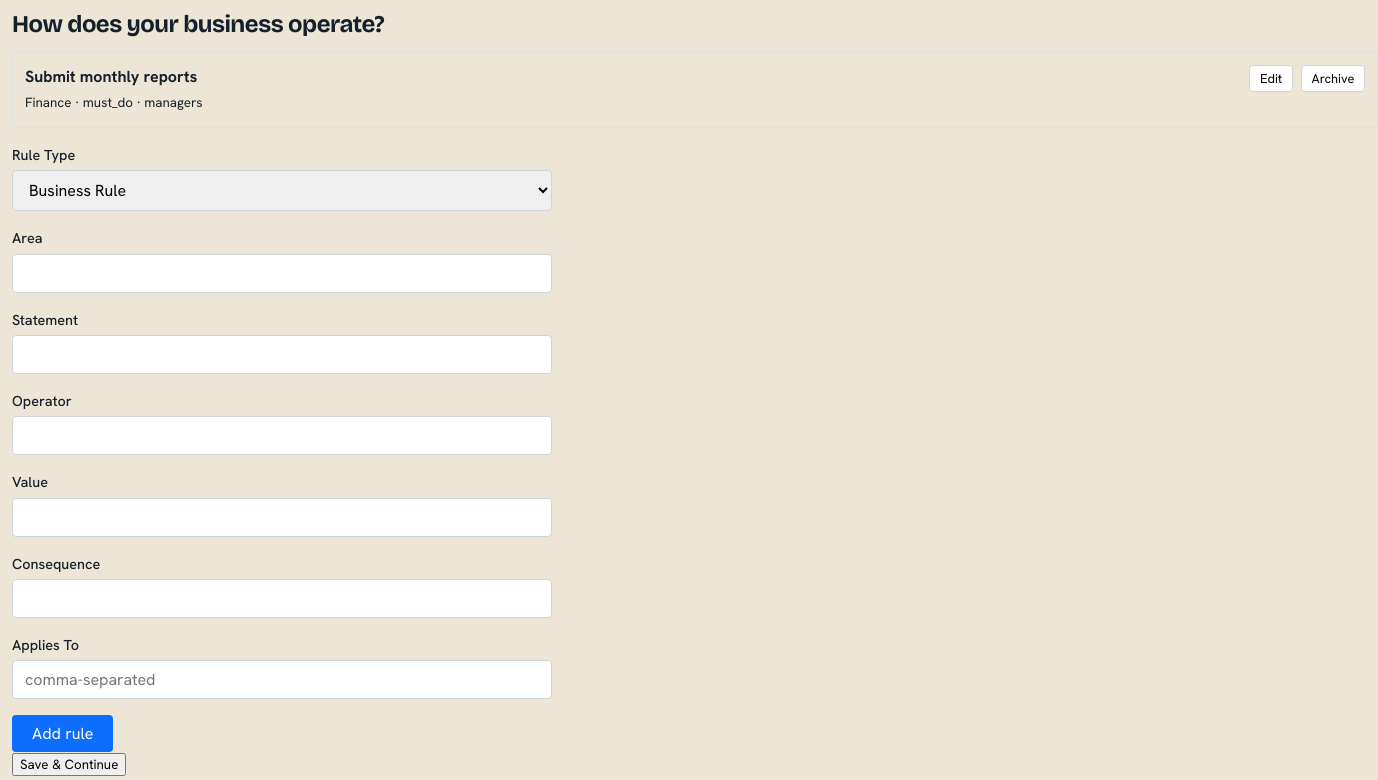
Test case: RulesStep › can edit a rule: click Edit → form populates with rule values
What coordinates should you click on to do the following:
click the button "Edit"
I would click on:
 (1271, 79)
Its box is x1=1250 y1=66 x2=1293 y2=92.
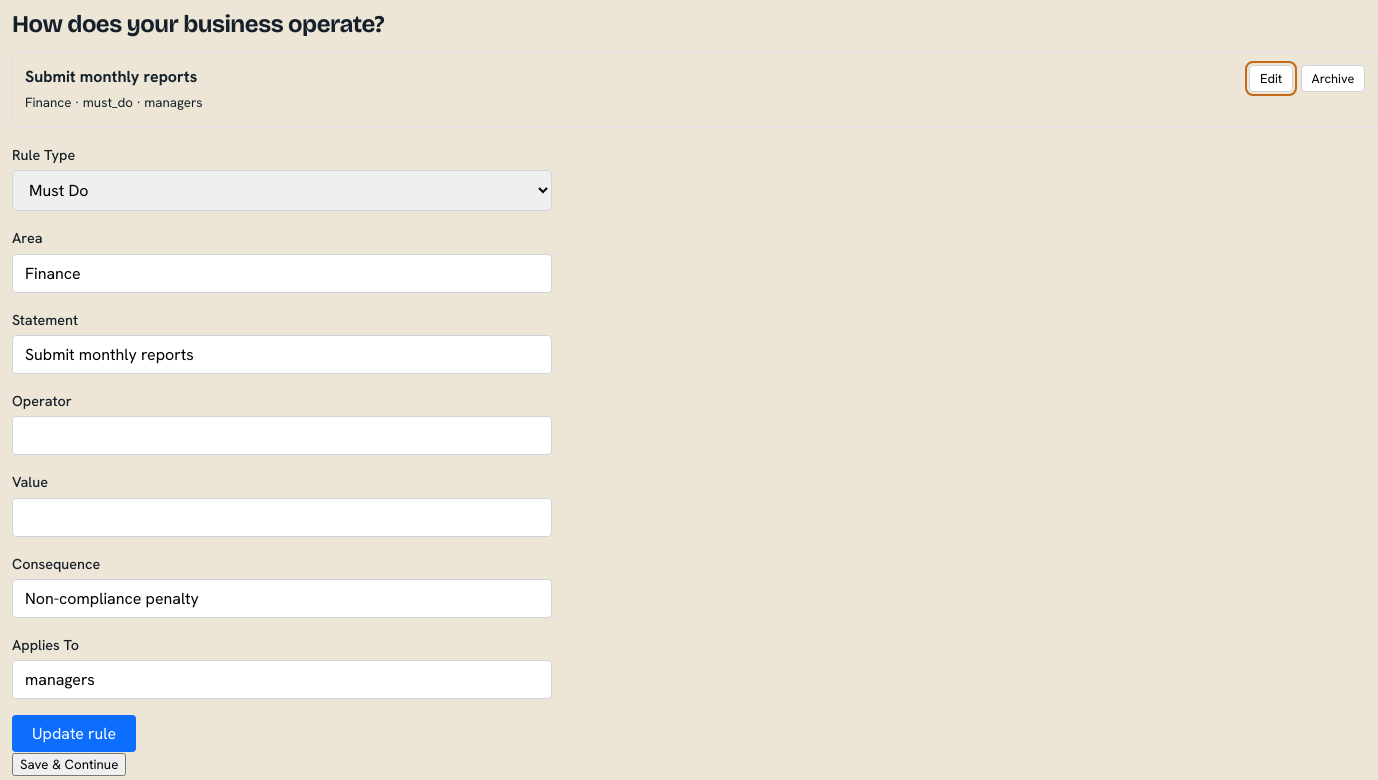
Now the field showing "Finance" is shown, box x1=12 y1=254 x2=552 y2=293
Now the field showing "Submit monthly reports" is shown, box x1=12 y1=335 x2=552 y2=374
